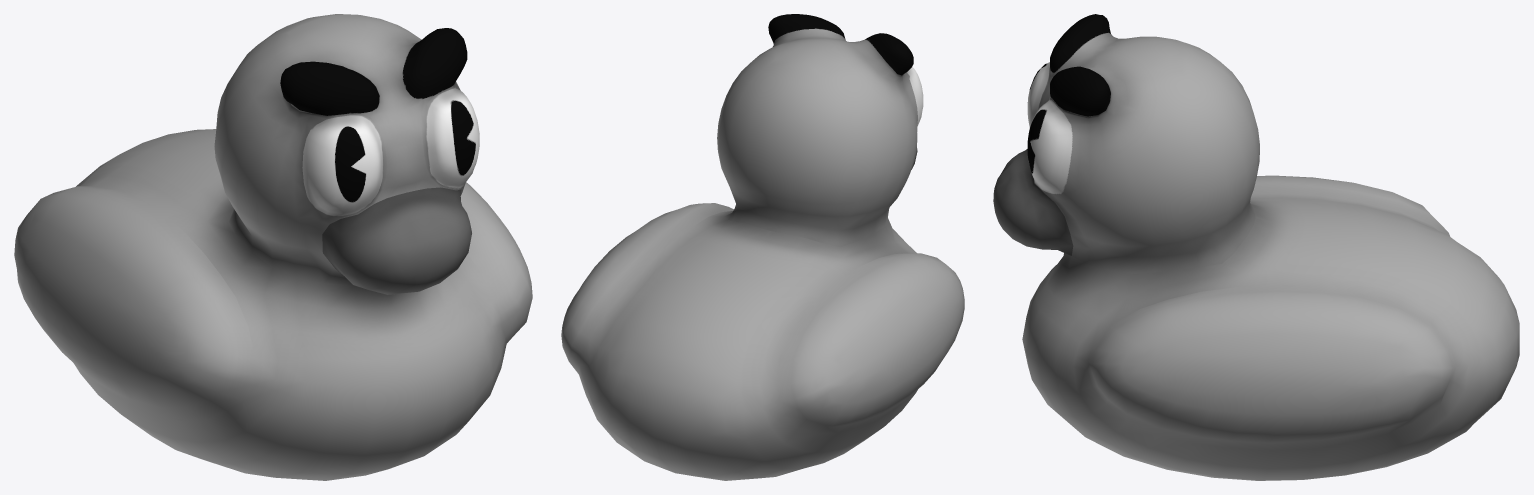
The model's file is RubberDuck_mesh.fbx.
3 views of the same model, side by side, from view 1: azimuth 30°, elevation 25°; view 2: azimuth 150°, elevation 25°; view 3: azimuth 270°, elevation 25° (orthographic). The views are drawn at different scales.
Visible parts, largest first — view 1: RubberDuck_mesh; view 2: RubberDuck_mesh; view 3: RubberDuck_mesh.
Boxes of the visible parts, box(x1,y1,x2,y2) form: RubberDuck_mesh: box(14, 14, 532, 480); RubberDuck_mesh: box(561, 14, 964, 480); RubberDuck_mesh: box(993, 14, 1519, 480).
Size of the model in its own units: 2.89 by 3.19 by 3.71.
Materials: 1 (1 with a texture image).
